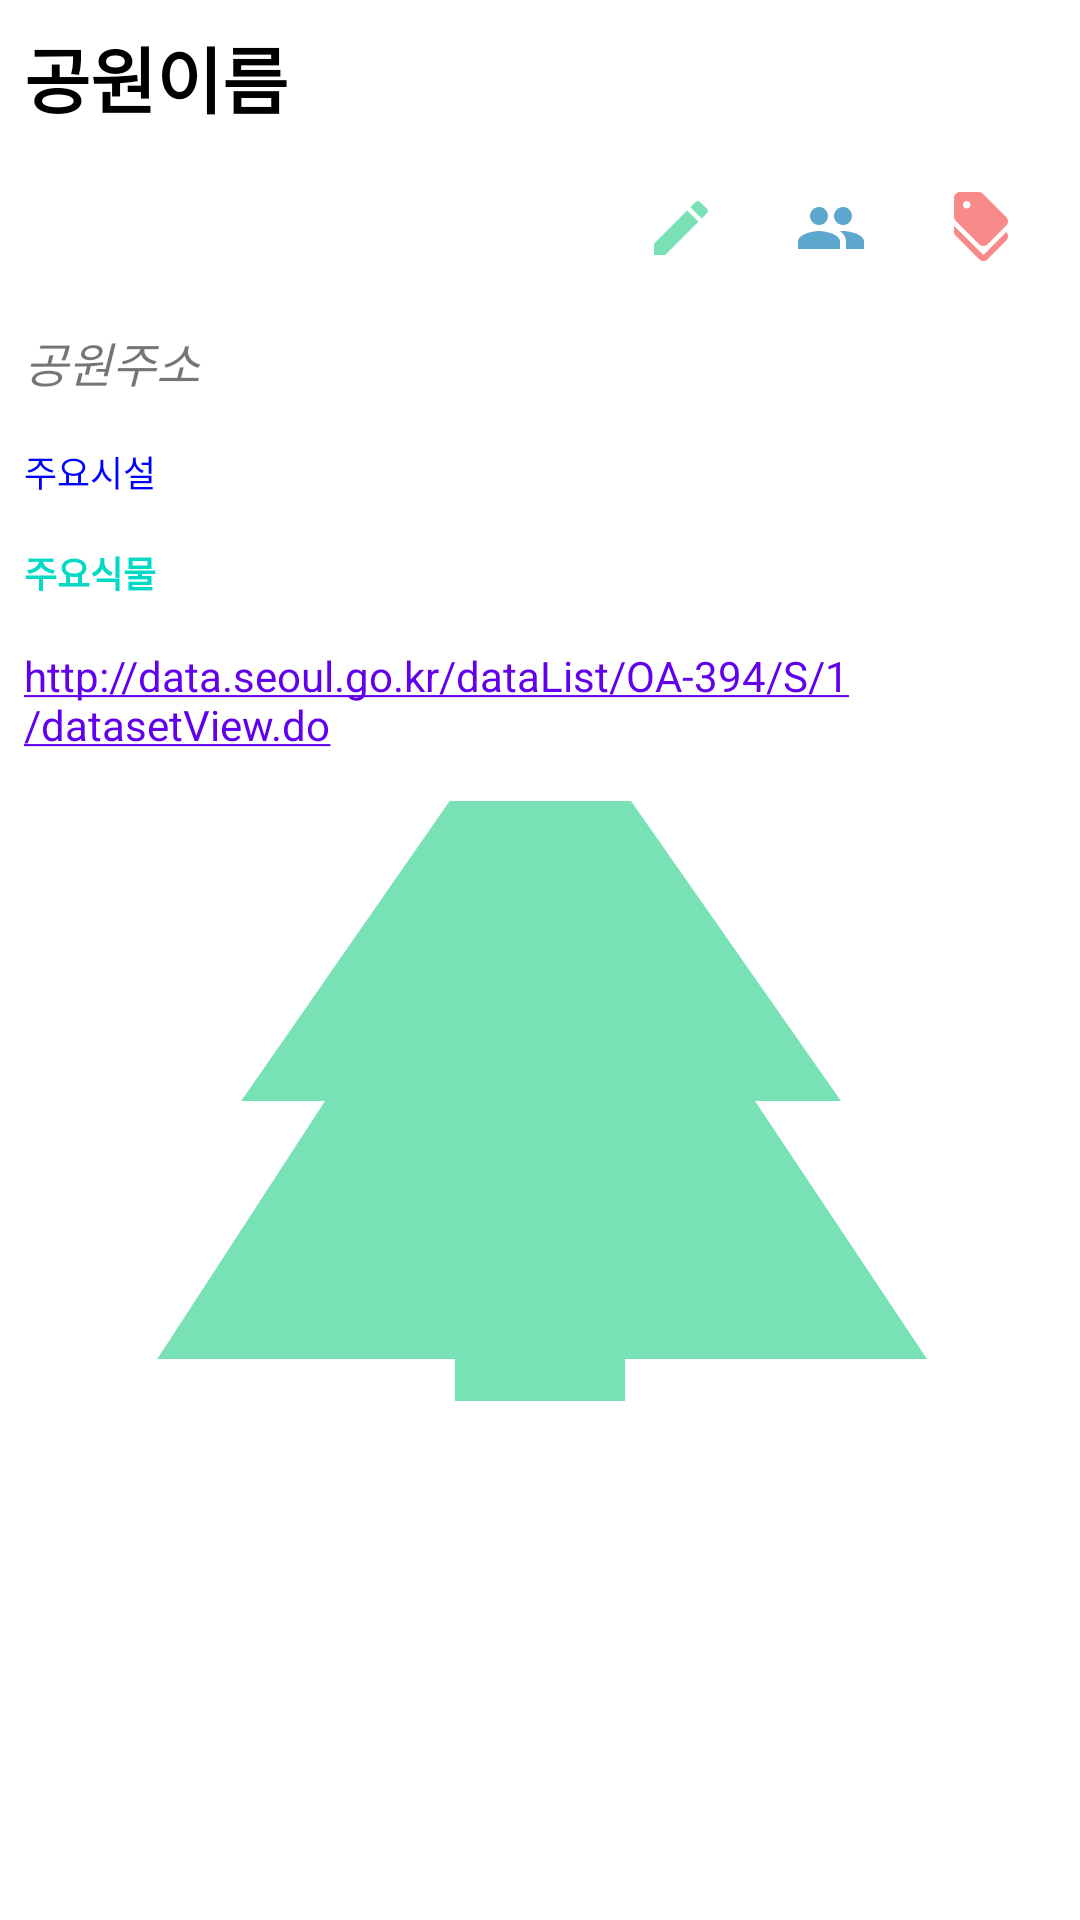

Locate icon controls on the screen. Image size 1080 × 1920, boxes as (x1, y1, x2, y2).
edit: (654, 201, 708, 255)
